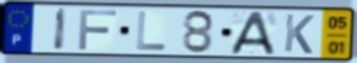8: (180, 9, 217, 55)
A: (228, 10, 278, 56)
F: (77, 9, 119, 52)
I: (52, 7, 70, 53)
K: (282, 13, 316, 56)
L: (134, 10, 169, 52)
